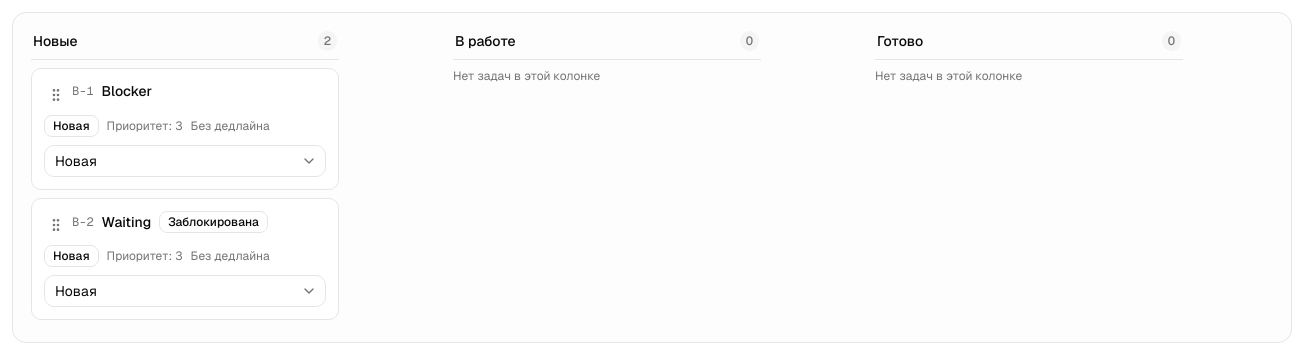
KanbanBoard › recomputes blocked state from lookup tasks when a dependency's status is overridden
This screenshot has width=1292, height=360.
Expected: the text "Заблокирована" is shown, [159,211,268,233]
Click the dropdown with test id "kanban-status-select".
click(76, 161)  # box [44,145,326,177]
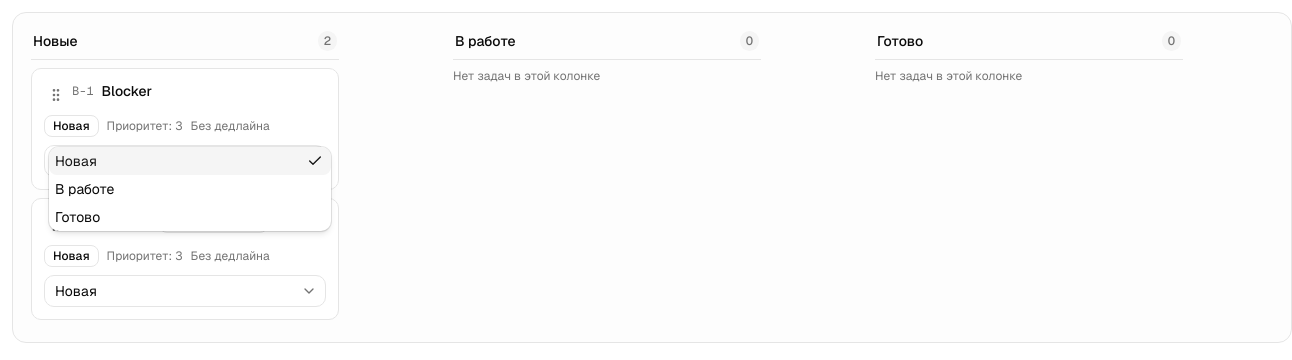
Click the option "Готово".
click(78, 217)  # box [55,208,100,226]
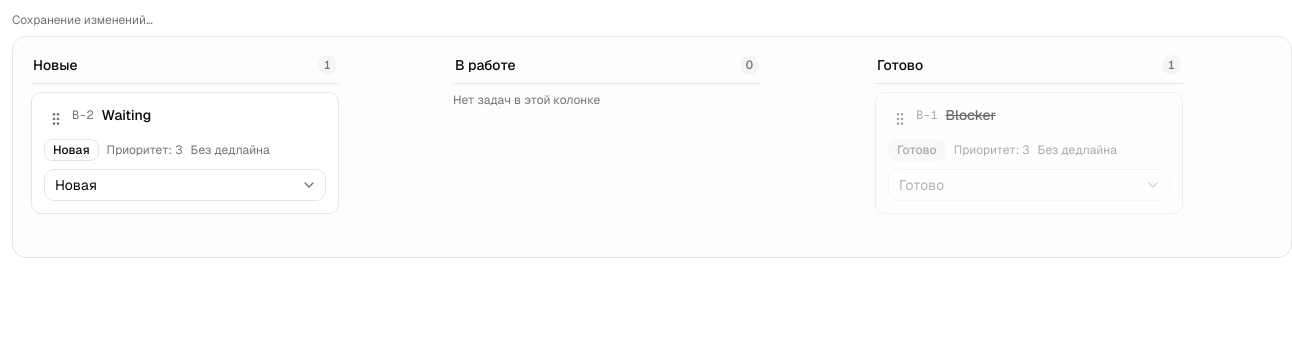
Result: the text with test id "kanban-card-blocked" is gone
